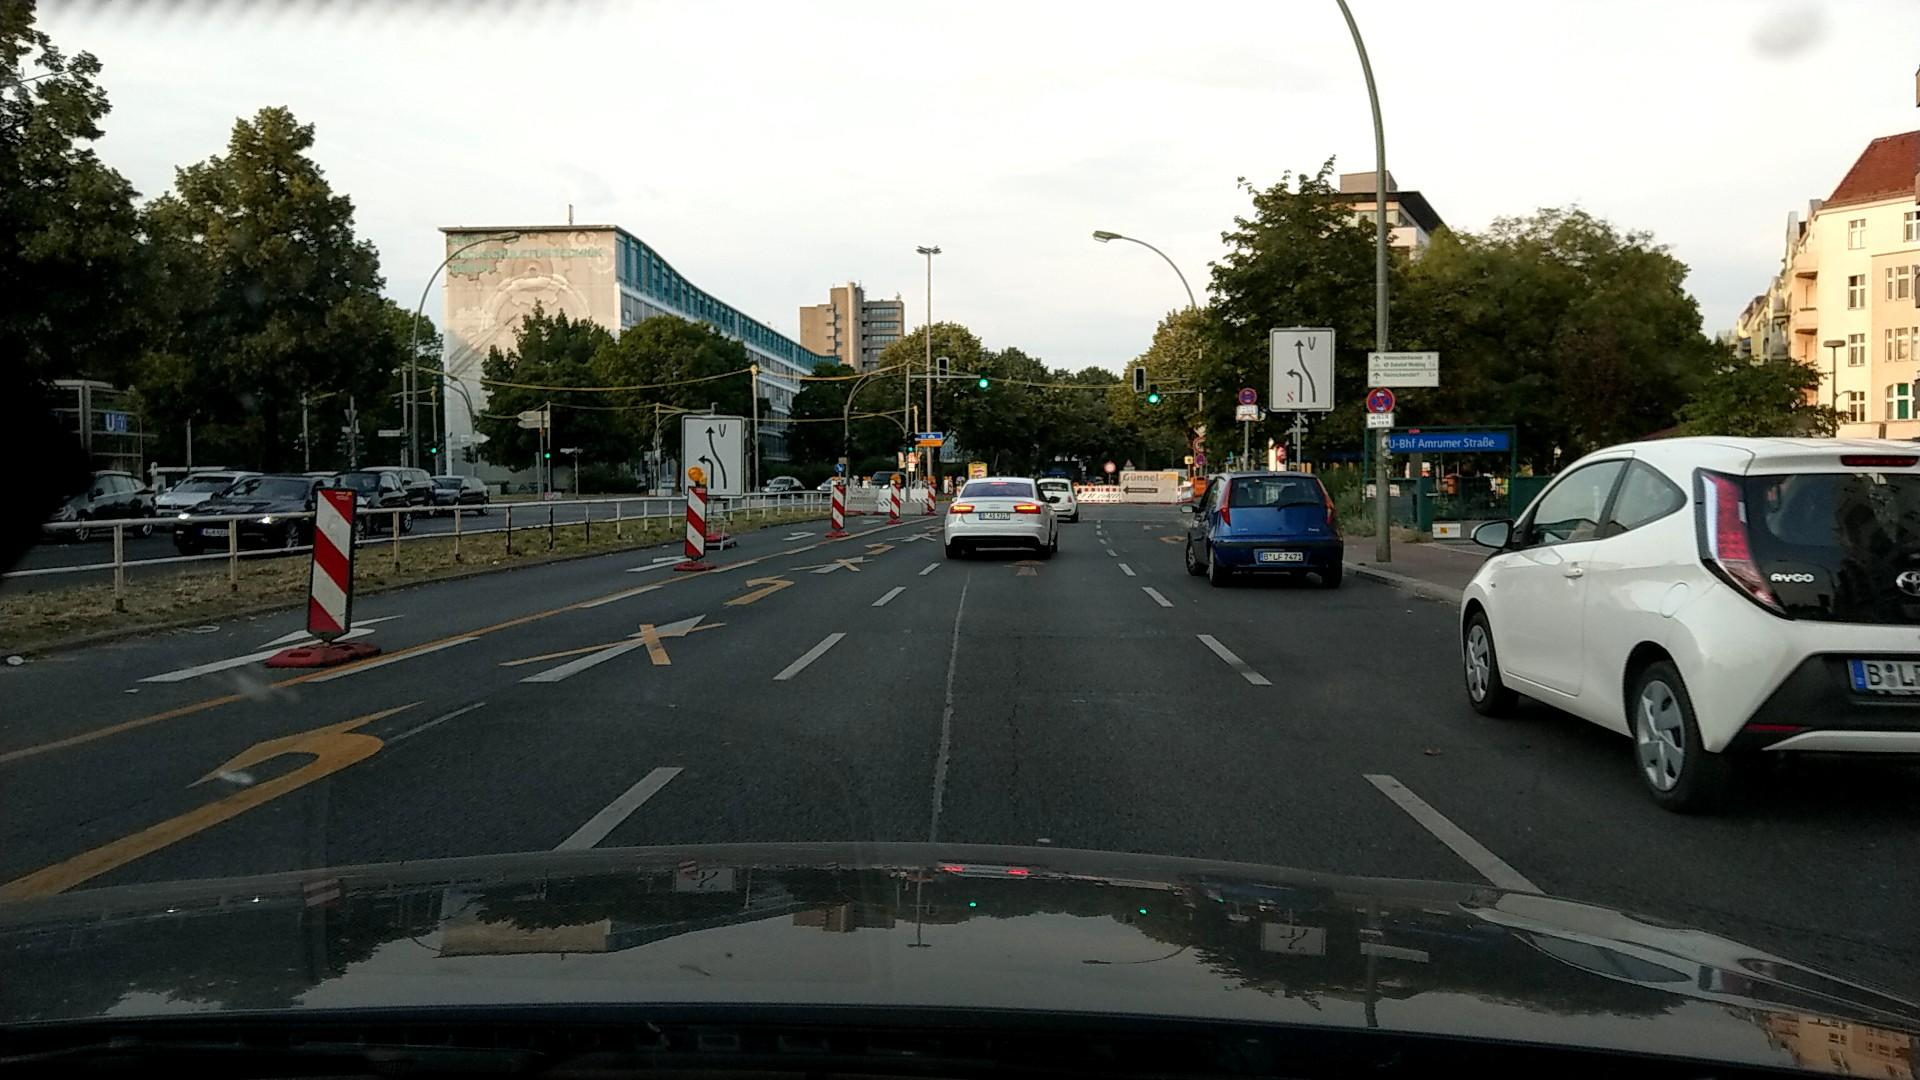Vehicle registration plate: (1258, 552, 1303, 563), (979, 512, 1010, 520), (200, 528, 230, 536)
